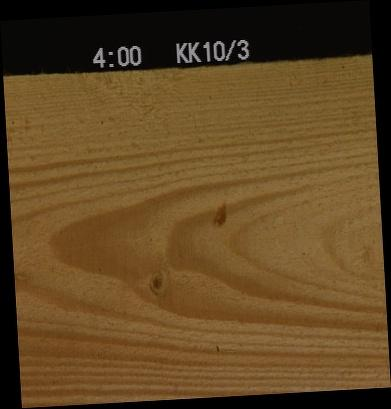sound_knot: (144, 266, 168, 295)
